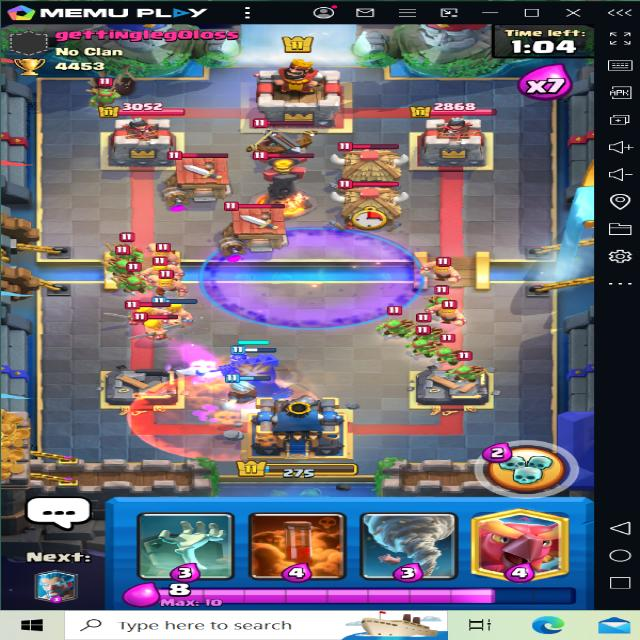Barbarian: (138, 273, 192, 299), (420, 255, 467, 282), (119, 297, 165, 322), (427, 302, 469, 326), (136, 313, 176, 338), (145, 241, 184, 265), (142, 257, 181, 276)
Barbarianhut: (219, 200, 297, 248), (162, 148, 235, 199)
Goblinhut: (330, 140, 412, 196), (330, 173, 410, 226)
Infernotower: (253, 149, 319, 215)
Speargoblin: (448, 358, 484, 387), (432, 337, 463, 368), (412, 329, 444, 357), (91, 76, 120, 105), (410, 320, 449, 339), (429, 287, 456, 313), (111, 252, 140, 276), (120, 270, 148, 294), (112, 234, 139, 258), (380, 313, 409, 334)
Xbow: (234, 112, 322, 168)
